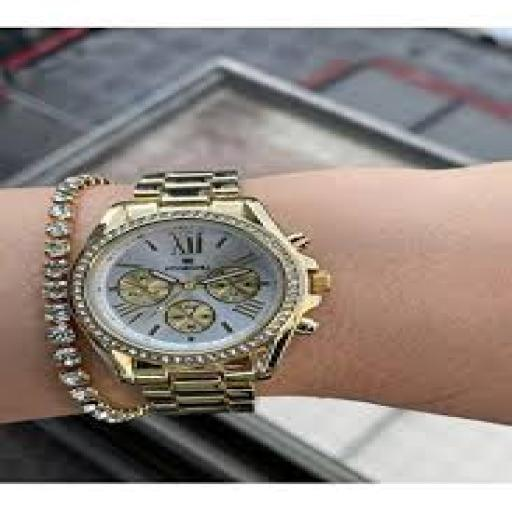KolSaati: (75, 154, 340, 427)
